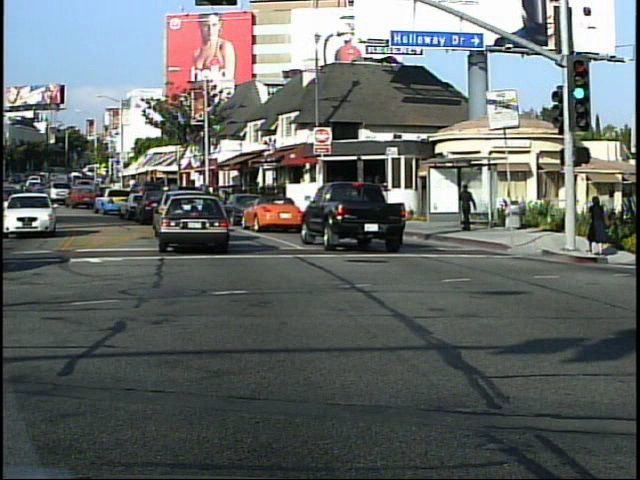person: (585, 192, 610, 257), (456, 181, 478, 236)
